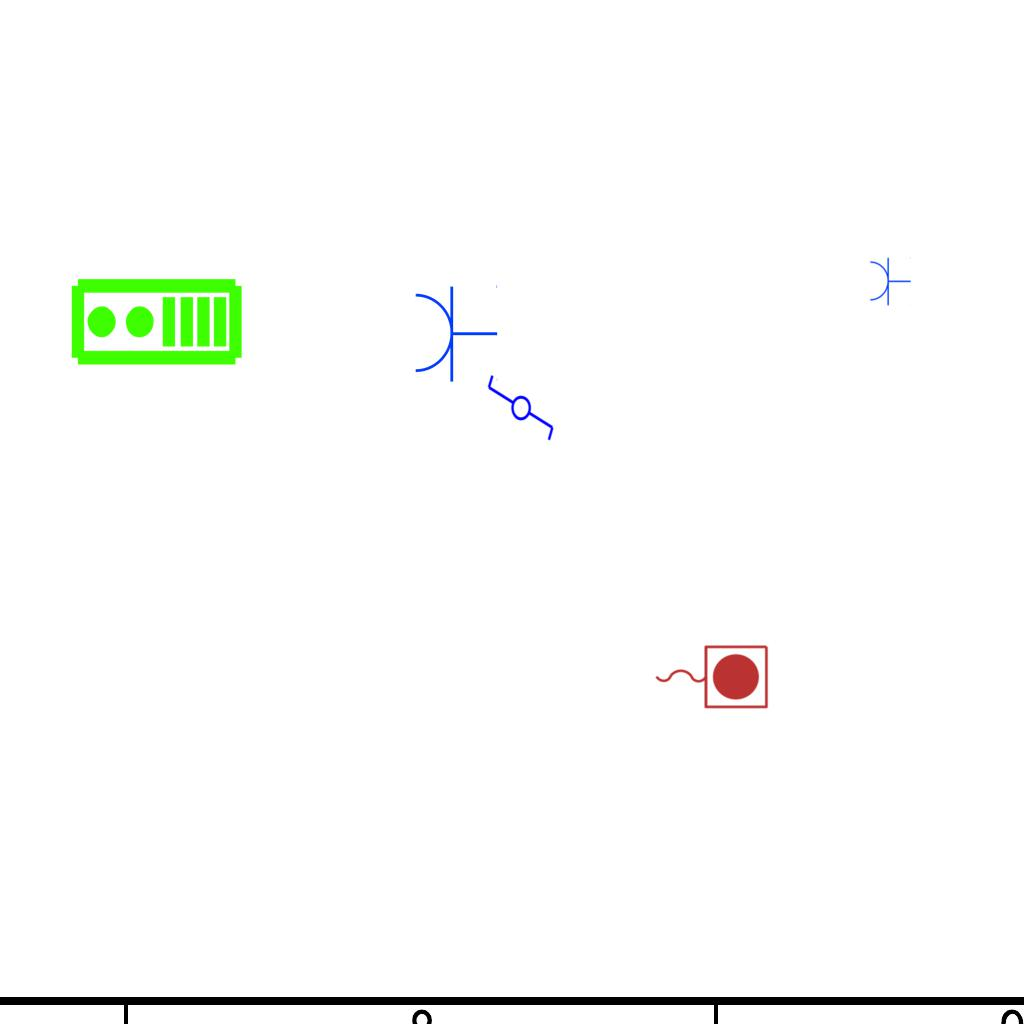Gegensprechanlage_mit_Video: (68, 276, 244, 371)
Schukosteckdose_einfach: (411, 283, 498, 383), (868, 256, 911, 306)
Wechselschalter: (484, 373, 556, 451)
Zugtaster: (650, 640, 772, 712)
